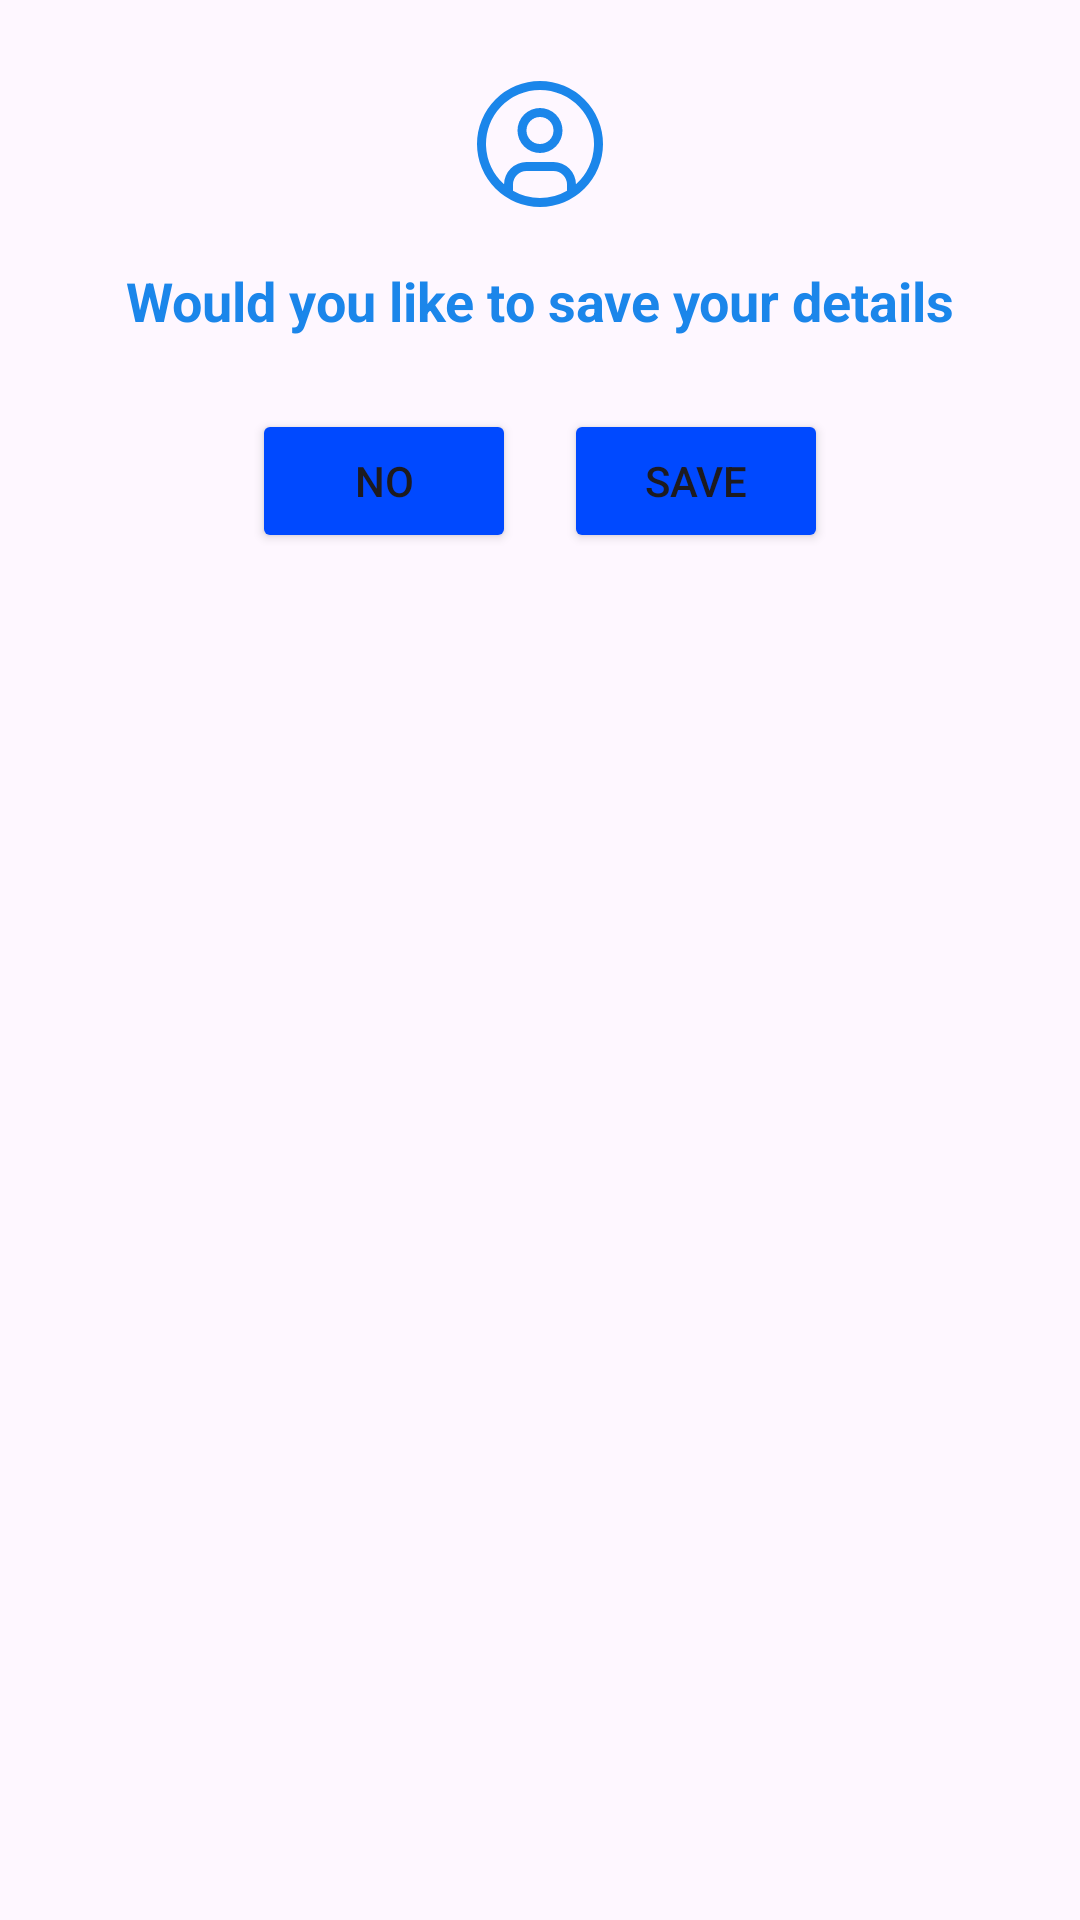

Icon bounding boxes for this 1080 x 1920 phone screenshot, format (x1, y1, x2, y2):
user: (477, 81, 603, 207)
